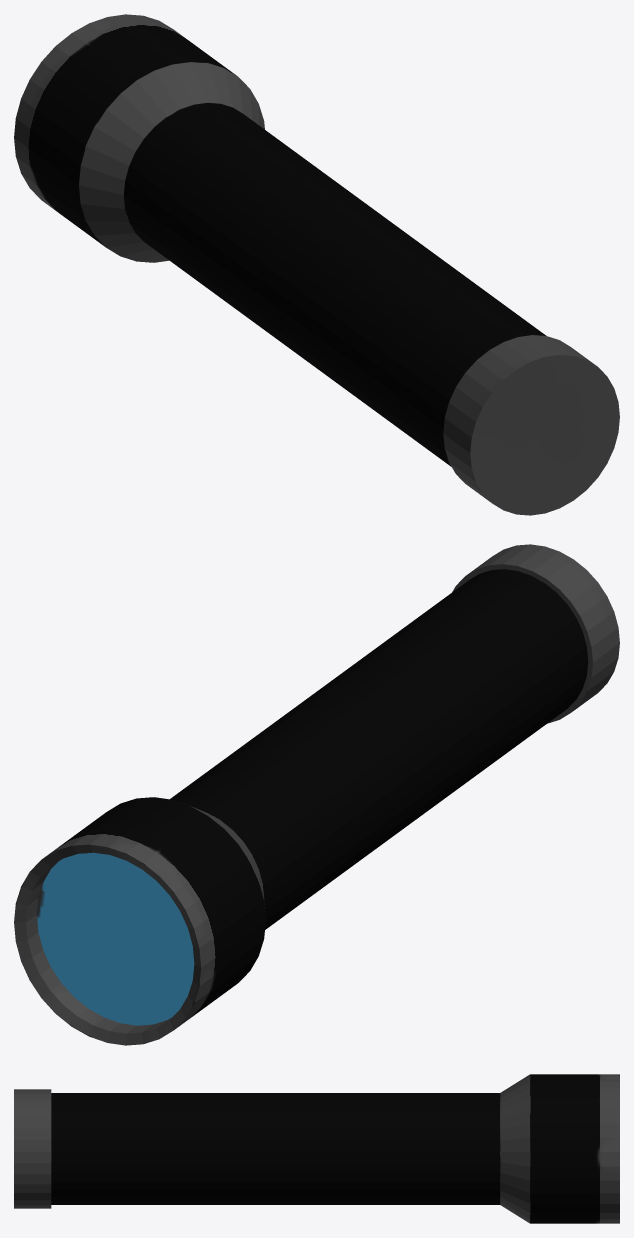
Rendered from flashlight.fbx.
3 renders of one model, top to bottom at view 1: azimuth 30°, elevation 25°; view 2: azimuth 150°, elevation 25°; view 3: azimuth 270°, elevation 25°, orthographic. The views are drawn at different scales.
Parts seen in each view (by area): view 1: Flashlight; view 2: Flashlight; view 3: Flashlight.
Part boxes in pixels (x1,y1,x2,y2): Flashlight: (14, 14, 619, 515); Flashlight: (14, 544, 619, 1045); Flashlight: (14, 1074, 619, 1223).
Bounding box in the file's own units: 50 × 50 × 203.
